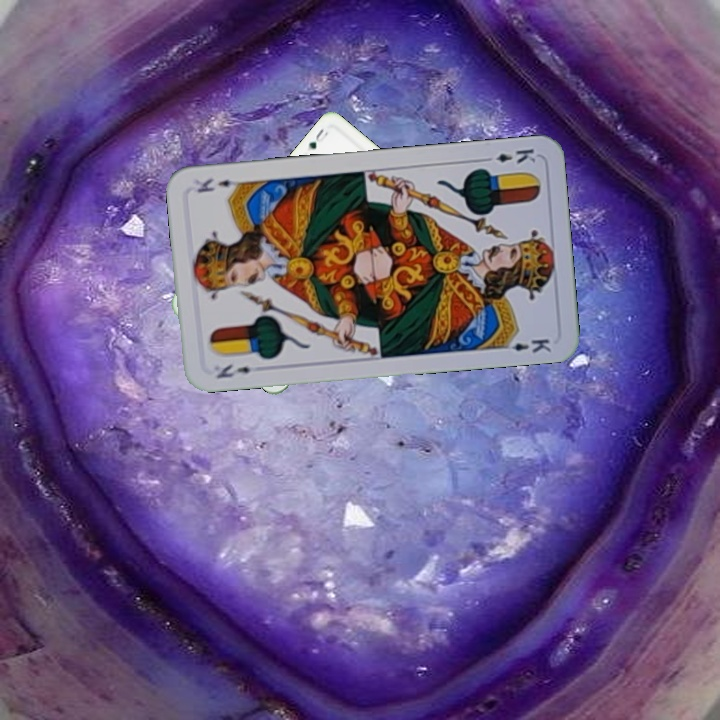EK: (479, 144, 538, 166), (212, 360, 253, 381)
GU: (304, 125, 331, 152)
